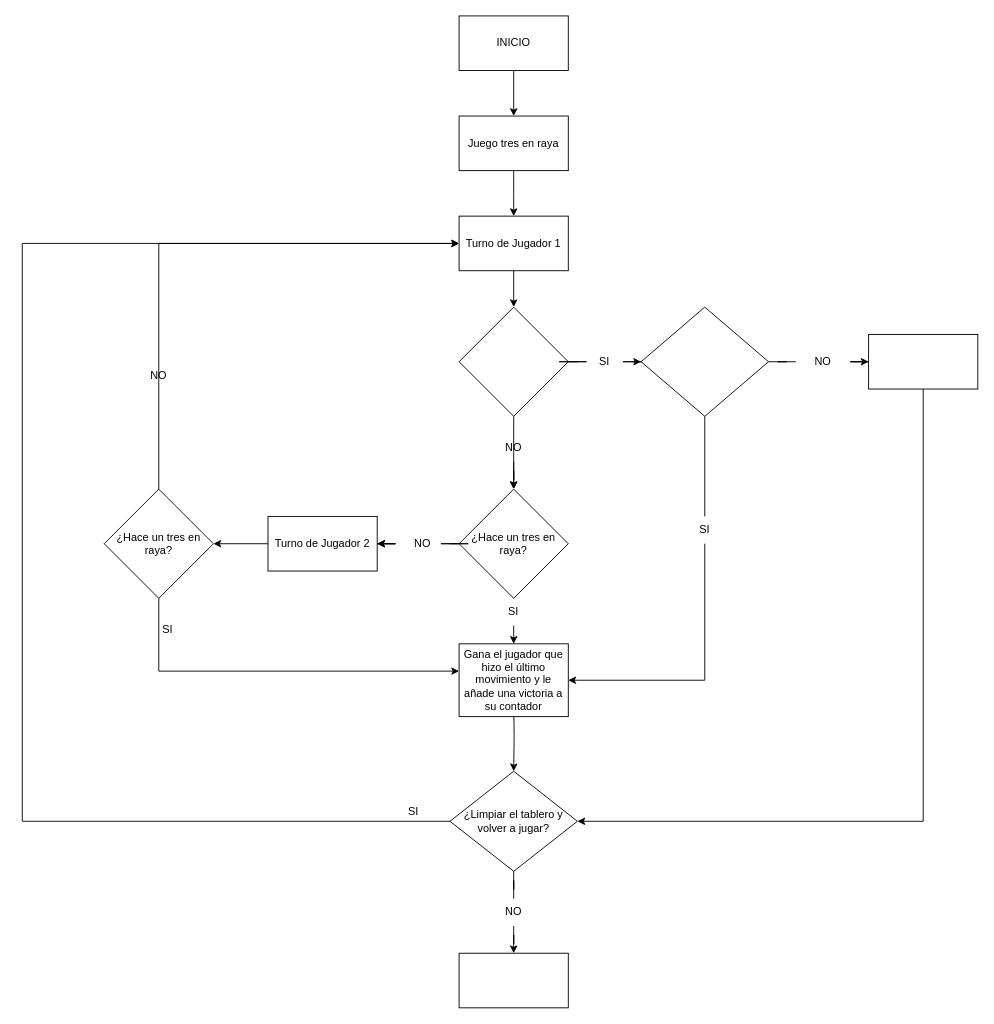
The diagram is 994 pixels wide and 1024 high, and some of its shapes have lost their labels. Each missing label, with the box of its shape:
Empate: (868, 334, 978, 389)
FIN: (458, 952, 568, 1008)
¿Esta el tablero lleno?: (458, 306, 568, 416)
¿Ha conseguido algún jugador un tres en raya?: (640, 306, 768, 416)
